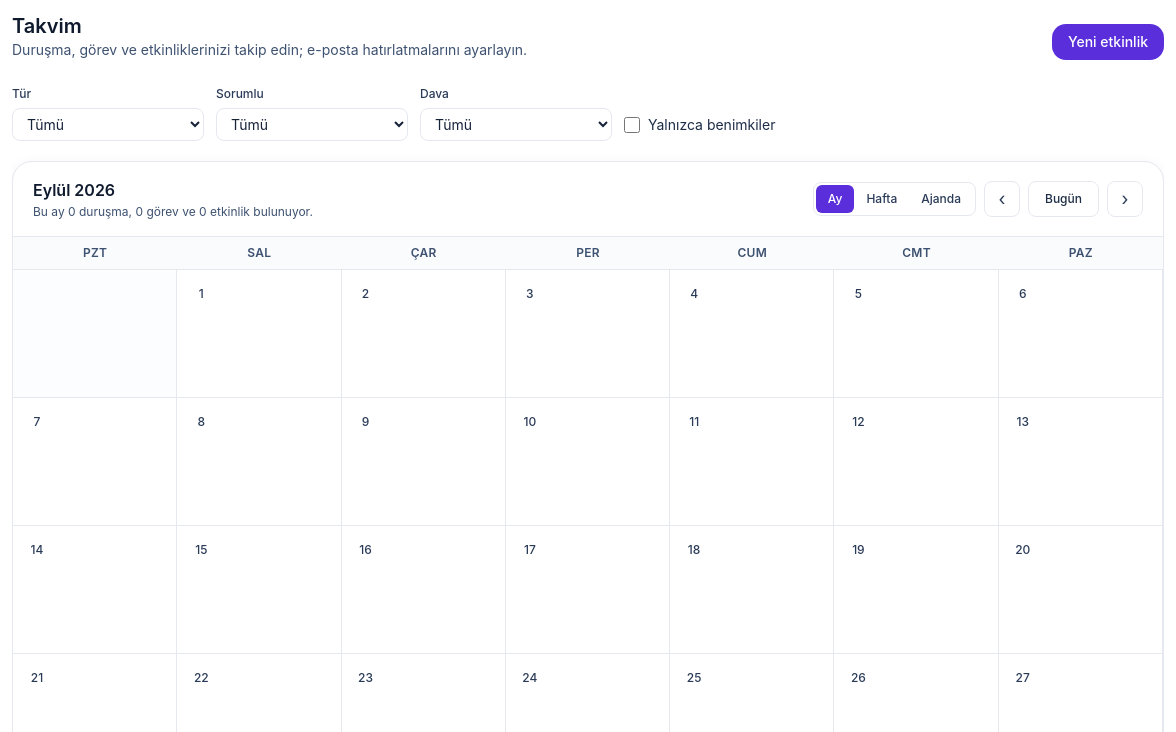
Test: CalendarView › ignores a stale response when the range changes quickly
The image size is (1176, 732).
Expected: the heading "Takvim" is shown, [12,14,82,38]
Click the button named "Sonraki ay": click(1125, 199) [1107,181,1143,217]
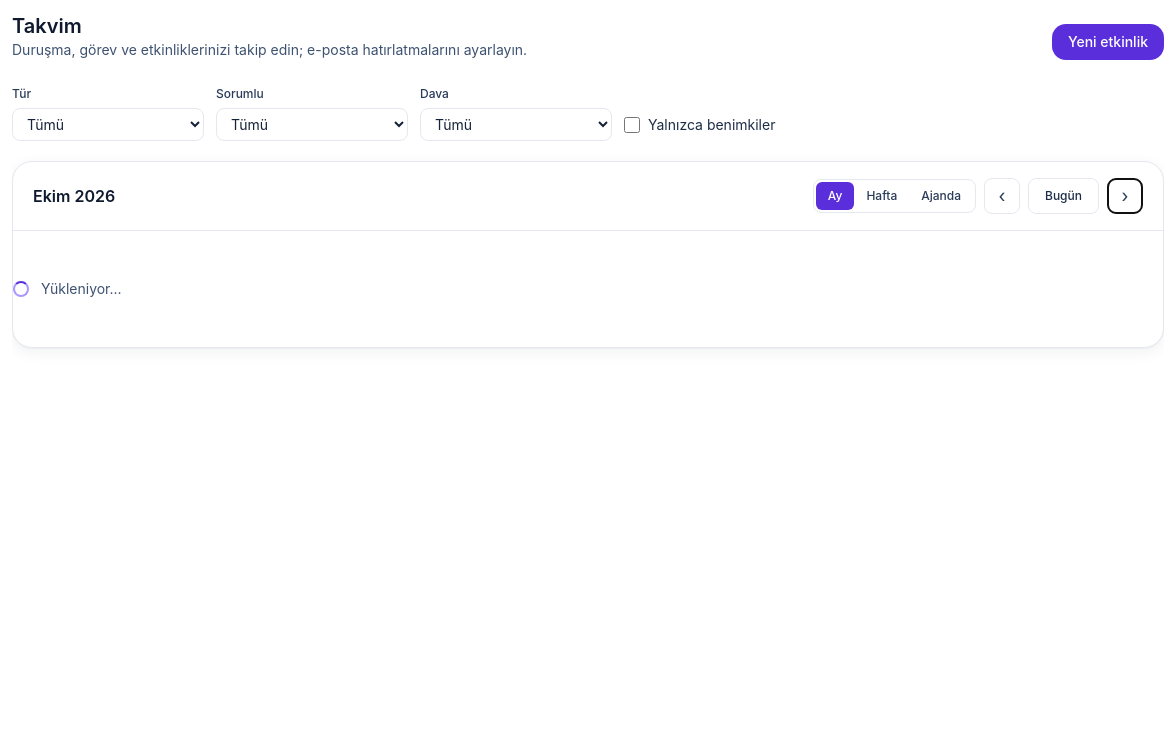
Click the button named "Sonraki ay": click(1125, 196) [1107,178,1143,214]
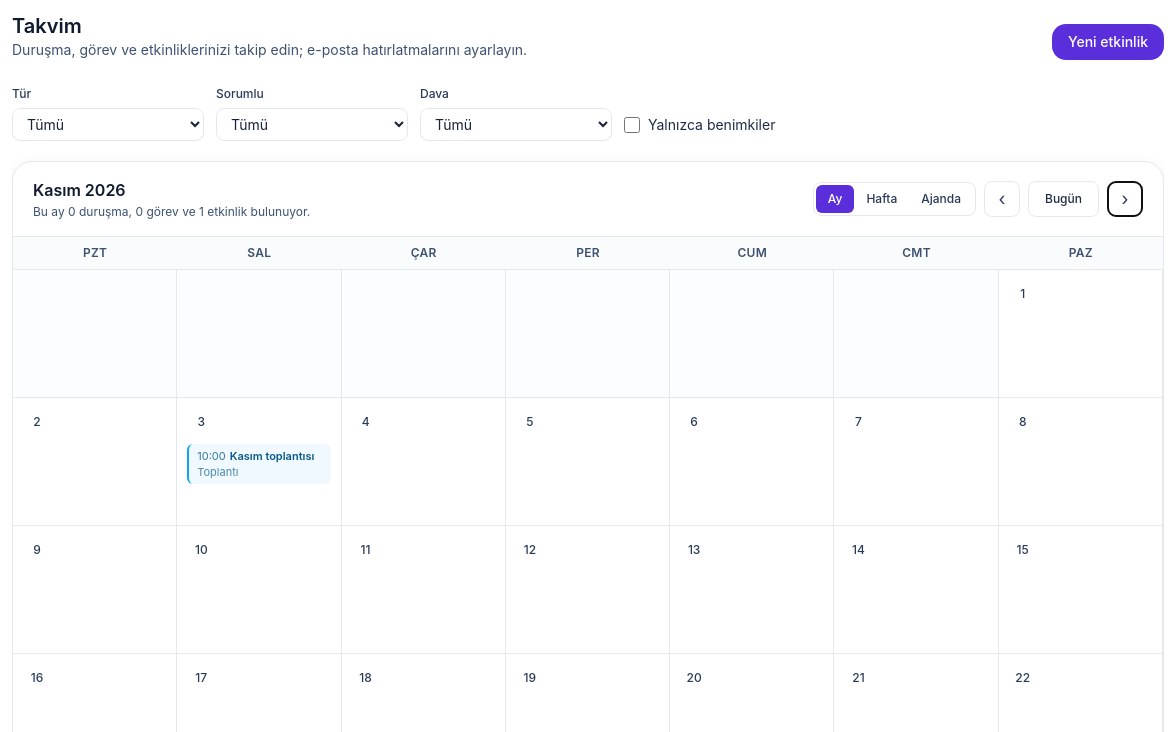
Expected: the text "Kasım toplantısı" is shown, [230,449,314,463]
